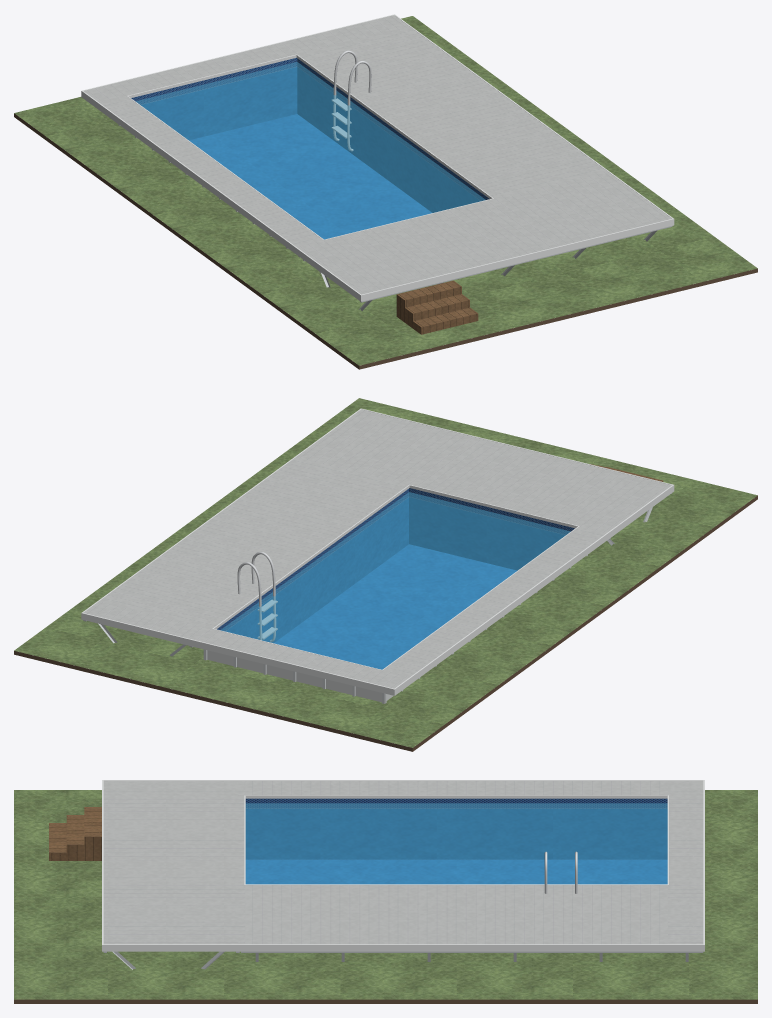
File: kayak-pool-12x24-white-endside-rec-nofence.1923b35018.glb
3 renders of one model, top to bottom at view 1: azimuth 30°, elevation 25°; view 2: azimuth 150°, elevation 25°; view 3: azimuth 270°, elevation 25°, orthographic. The views are drawn at different scales.
Parts seen in each view (by area): view 1: deck, ground, water, liner_wall, liner_floor, fascia, soil, steps, steel, stud; view 2: deck, ground, water, liner_wall, liner_floor, fascia, soil, wall, steel; view 3: deck, ground, water, liner_wall, liner_floor, fascia, soil, steps, stud.
Boxes of the visible parts, bbox=[...] form: deck: bbox=[84, 15, 671, 294]; ground: bbox=[14, 16, 757, 365]; water: bbox=[136, 62, 485, 239]; liner_wall: bbox=[131, 57, 489, 212]; liner_floor: bbox=[189, 114, 431, 239]; fascia: bbox=[81, 14, 674, 301]; soil: bbox=[14, 113, 757, 369]; steps: bbox=[396, 280, 478, 334]; steel: bbox=[331, 50, 371, 151]; stud: bbox=[298, 226, 672, 310]; deck: bbox=[84, 409, 671, 688]; ground: bbox=[14, 398, 757, 747]; water: bbox=[221, 492, 570, 669]; liner_wall: bbox=[217, 488, 574, 643]; liner_floor: bbox=[274, 544, 516, 669]; fascia: bbox=[81, 408, 674, 695]; soil: bbox=[14, 495, 757, 751]; wall: bbox=[207, 650, 393, 702]; steel: bbox=[237, 551, 277, 642]; deck: bbox=[103, 781, 703, 944]; ground: bbox=[14, 790, 757, 999]; water: bbox=[245, 803, 667, 884]; liner_wall: bbox=[245, 798, 667, 859]; liner_floor: bbox=[245, 859, 667, 884]; fascia: bbox=[102, 780, 704, 951]; soil: bbox=[14, 999, 757, 1003]; steps: bbox=[49, 807, 101, 860]; stud: bbox=[103, 951, 703, 969].
Bounding box in the file's own units: 8.53 × 1.9 × 12.79.
Materials: 12 (5 with a texture image).
